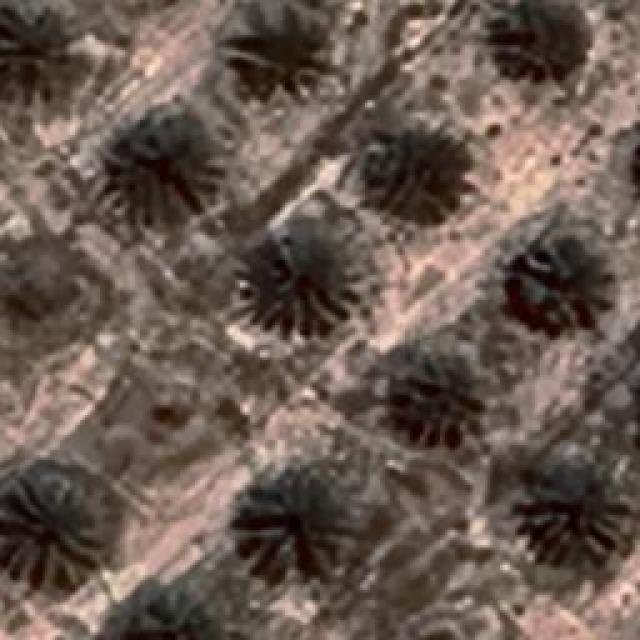PalmTree: (36, 54, 173, 613), (514, 452, 628, 560), (110, 120, 222, 222), (2, 480, 100, 590), (232, 482, 350, 570), (252, 235, 360, 330), (381, 124, 464, 224), (482, 0, 588, 78), (400, 355, 485, 443), (530, 238, 612, 320), (0, 248, 68, 338), (240, 30, 325, 95)
